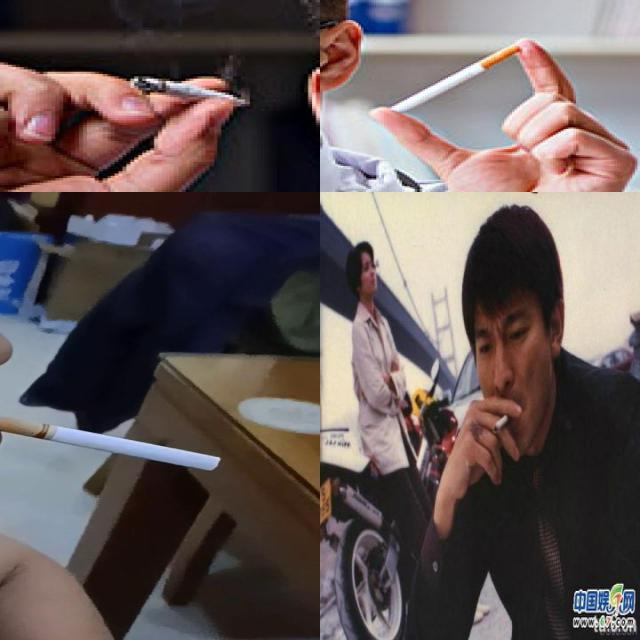smoking: (0, 415, 226, 473), (392, 45, 524, 114), (130, 76, 242, 108), (494, 410, 514, 432)
